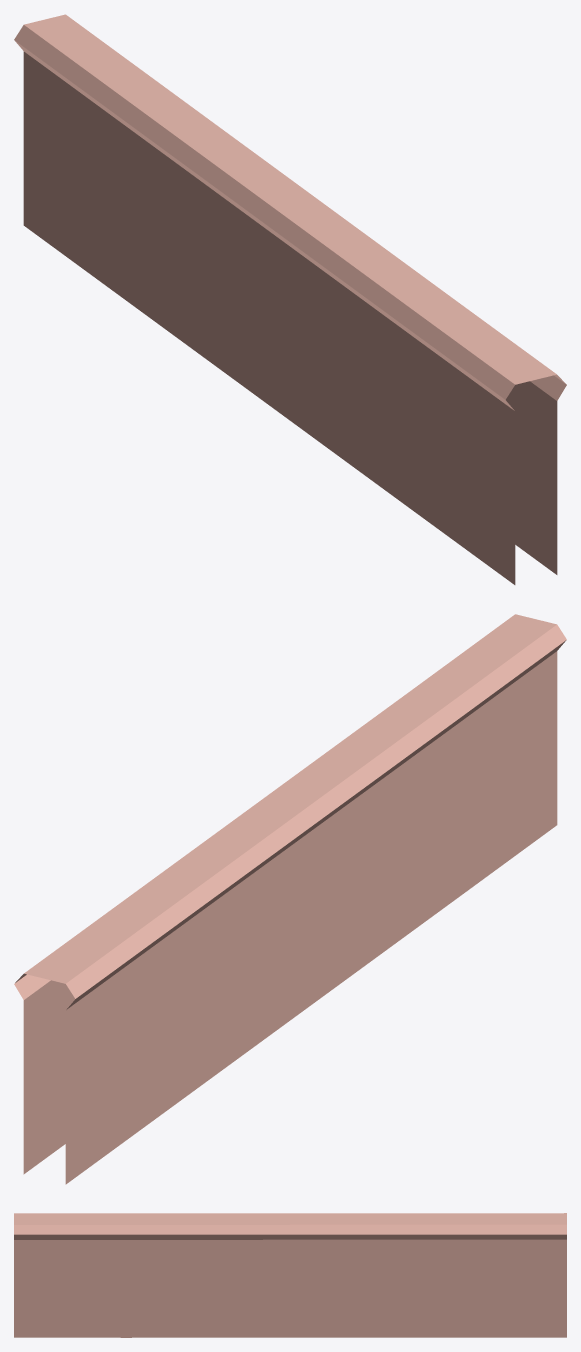
The model's file is Museum_Ark_Fence.fbx.
3 renders of one model, top to bottom at view 1: azimuth 30°, elevation 25°; view 2: azimuth 150°, elevation 25°; view 3: azimuth 270°, elevation 25°, orthographic. The views are drawn at different scales.
Visible parts, largest first — view 1: Archi_Sol.004; view 2: Archi_Sol.004; view 3: Archi_Sol.004.
Part boxes in pixels (x1=…): Archi_Sol.004: x1=14, y1=14, x2=566, y2=584; Archi_Sol.004: x1=14, y1=614, x2=566, y2=1184; Archi_Sol.004: x1=14, y1=1213, x2=566, y2=1337.
Size of the model in its own units: 40.92 by 128 by 567.
